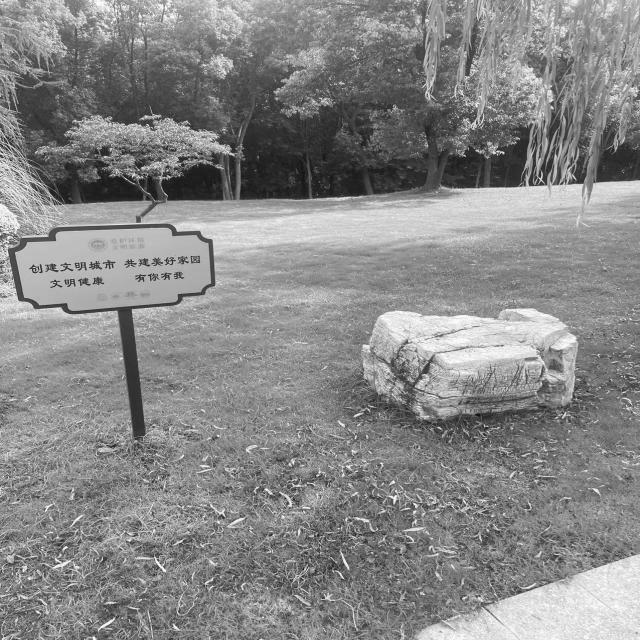Stone: (362, 308, 576, 421)
